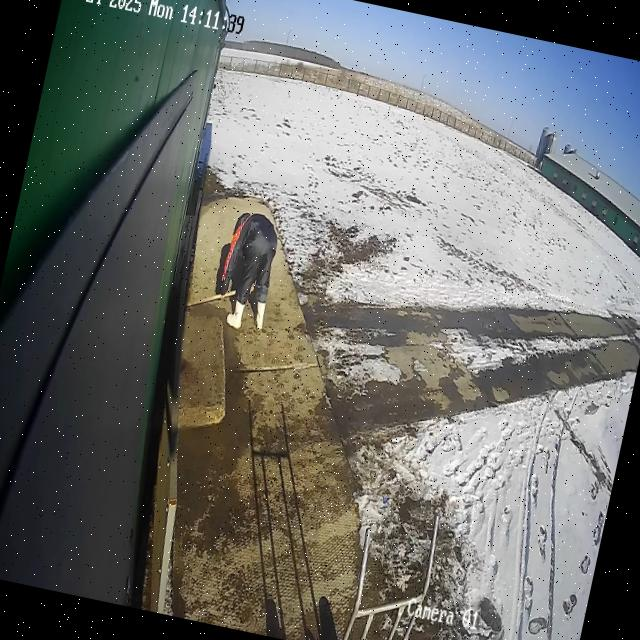Red uniform: (215, 212, 277, 328)
